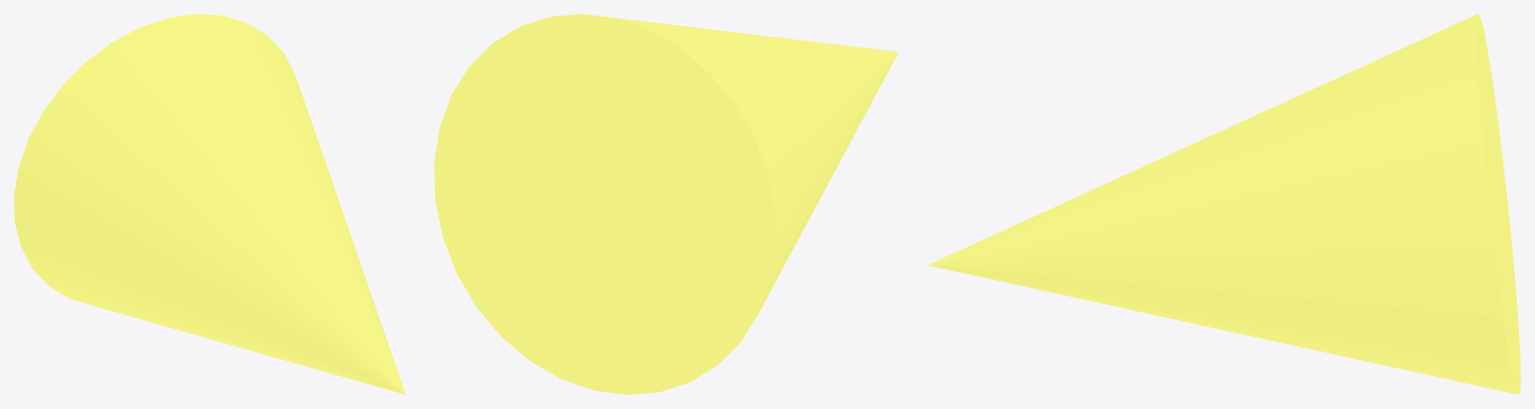
File: jet.gltf
3 renders of one model, left to right at view 1: azimuth 30°, elevation 25°; view 2: azimuth 150°, elevation 25°; view 3: azimuth 270°, elevation 25°, orthographic. The views are drawn at different scales.
Visible parts, largest first — view 1: Cone; view 2: Cone; view 3: Cone.
Boxes of the visible parts, x1,y1,x2,y2 form: Cone: [14, 14, 405, 394]; Cone: [434, 14, 898, 394]; Cone: [927, 14, 1520, 394].
Bounding box in the file's own units: 0.2 × 0.1986 × 0.3096.
